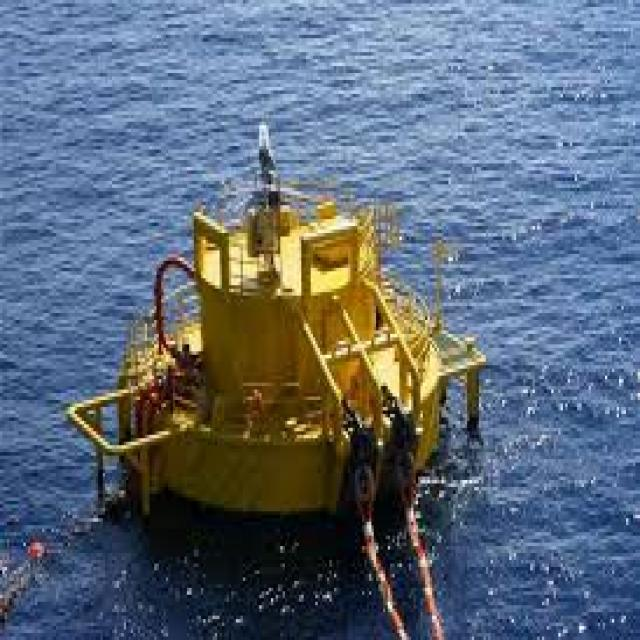Buoy: (79, 66, 495, 543)
